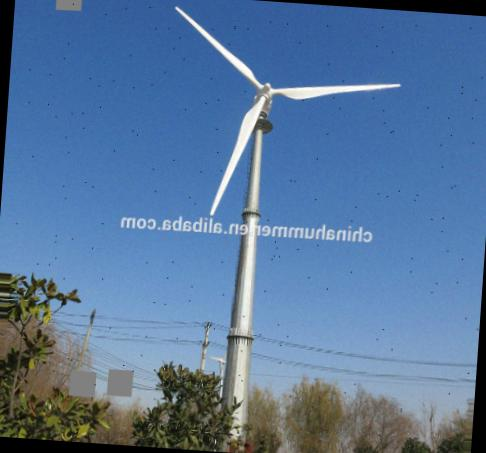wind turbine: (173, 6, 401, 437)
